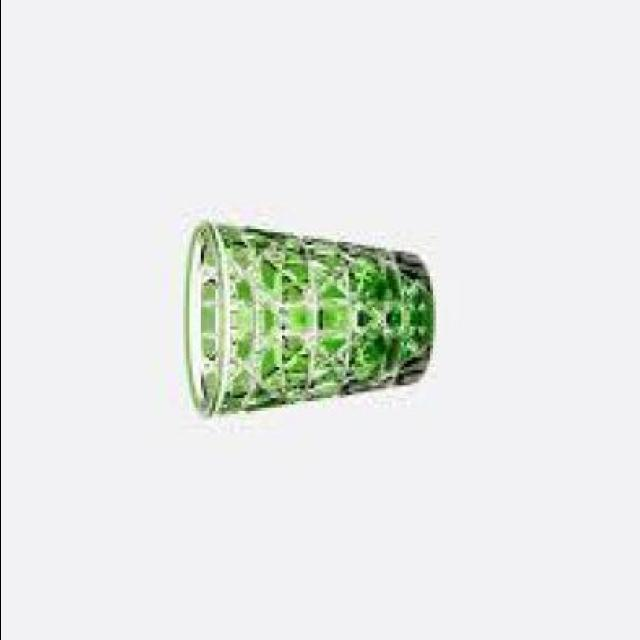kaca: (182, 222, 429, 420)
